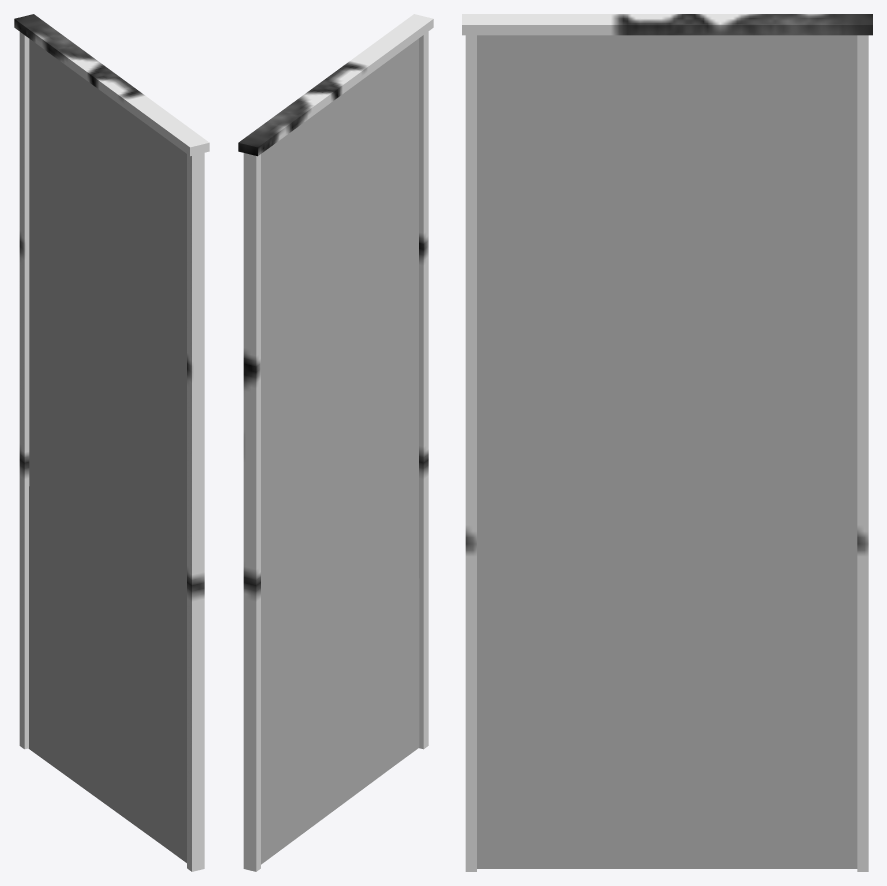
The picture shows the model from 3 angles, left to right: view 1: azimuth 30°, elevation 25°; view 2: azimuth 150°, elevation 25°; view 3: azimuth 270°, elevation 25°; orthographic projection. The views are drawn at different scales.
Parts seen in each view (by area): view 1: Box03; view 2: Box03; view 3: Box03.
Part boxes in pixels (x1,y1,x2,y2): Box03: (14,14,209,871); Box03: (238,14,433,871); Box03: (462,14,872,871).
Size of the model in its own units: 2.69 by 41.88 by 95.58.
